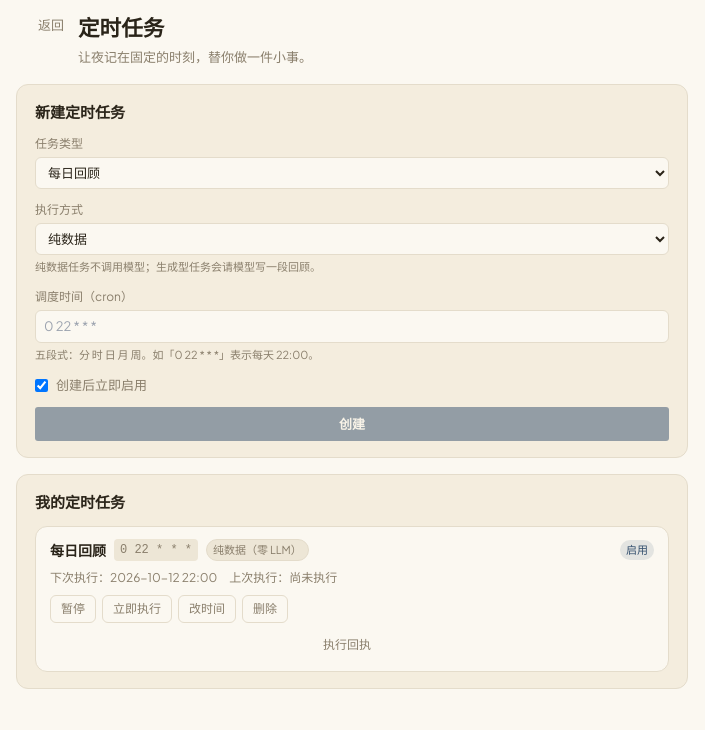
ScheduleScene › shows execution receipts when expanded
Click the button with test id "schedule-runs-toggle". click: (352, 645)
box: [50,631,654,659]
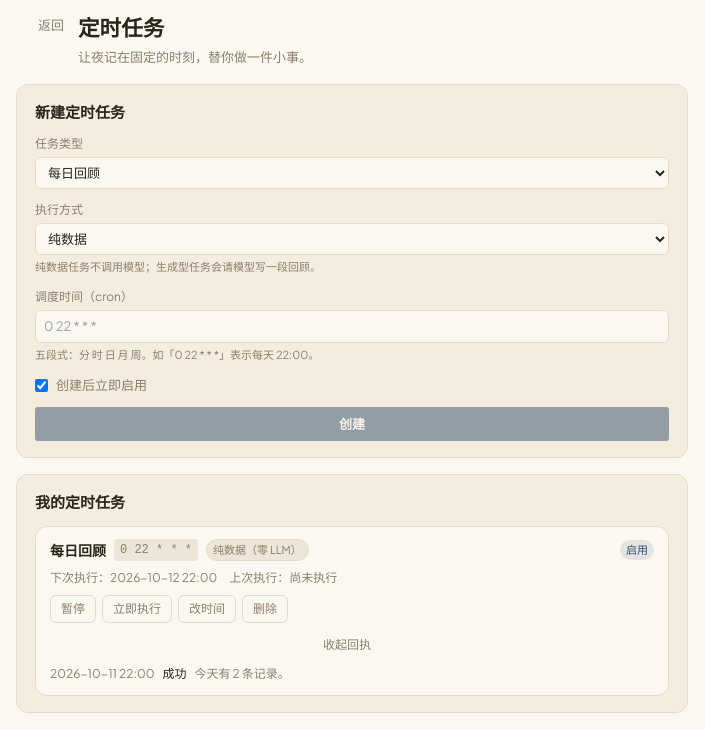
Expected: the number of list items with test id "schedule-run" is 1, [50,666,290,681]
Expected: the list item with test id "schedule-run" shows "今天有 2 条记录。", [194,666,290,681]
